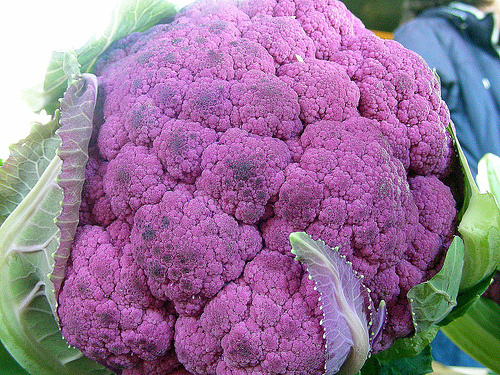cauliflower: (60, 0, 457, 374)
